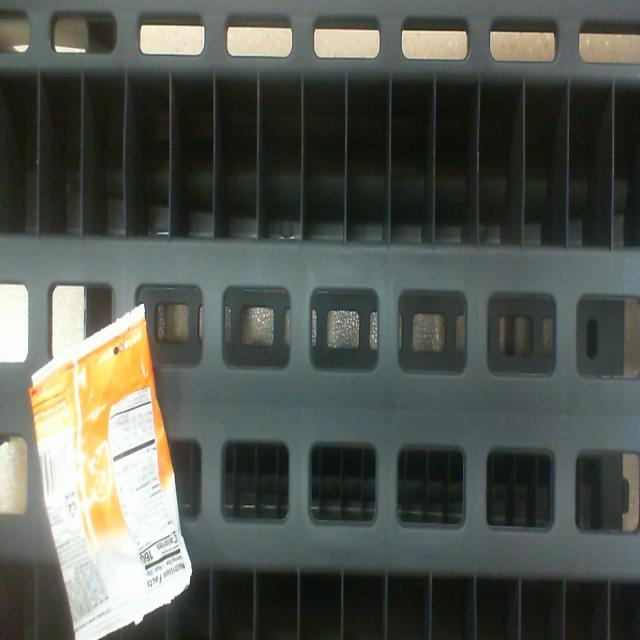snack: (34, 308, 190, 640)
